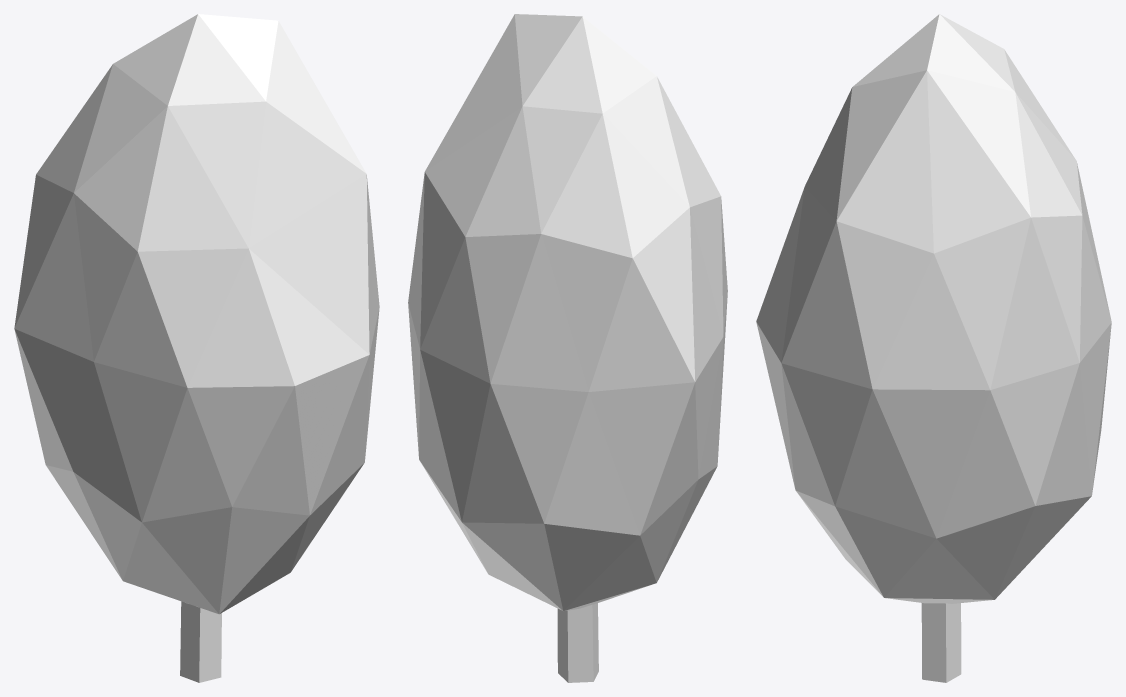
Rendered from Tree_01_Mesh.fbx.
The picture shows the model from 3 angles, left to right: view 1: azimuth 30°, elevation 25°; view 2: azimuth 150°, elevation 25°; view 3: azimuth 270°, elevation 25°; orthographic projection.
Parts seen in each view (by area): view 1: Tree_01; view 2: Tree_01; view 3: Tree_01.
Boxes of the visible parts, <box> form: Tree_01: <box>14,14,379,682</box>; Tree_01: <box>408,14,727,682</box>; Tree_01: <box>756,14,1111,682</box>.
Bounding box in the file's own units: 188 × 399 × 195.
